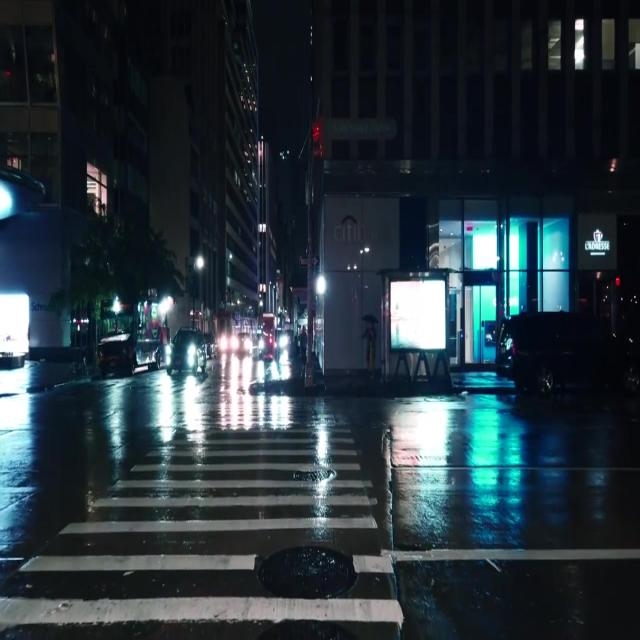Car: (500, 312, 623, 392), (166, 327, 203, 372)
